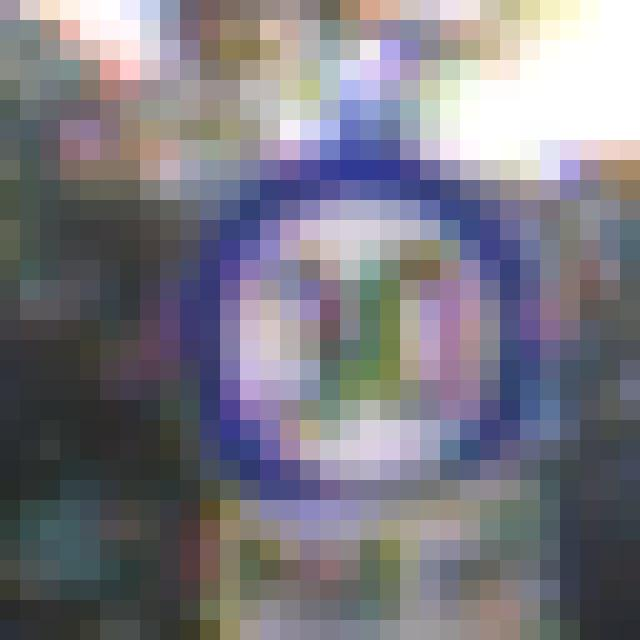SPEED LIMIT 30: (196, 173, 546, 496)
